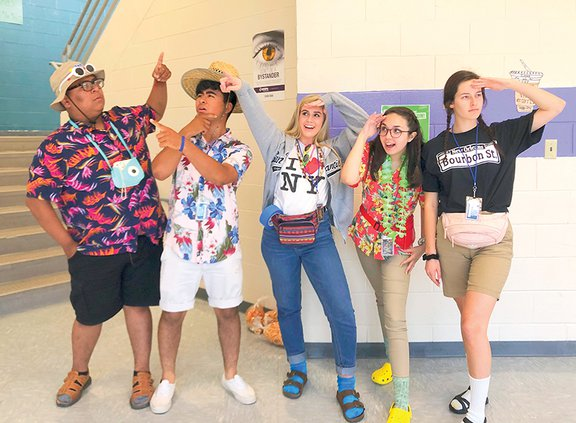Person: (426, 69, 567, 423), (26, 52, 161, 408), (256, 87, 365, 422), (159, 60, 256, 412), (356, 106, 425, 423)
